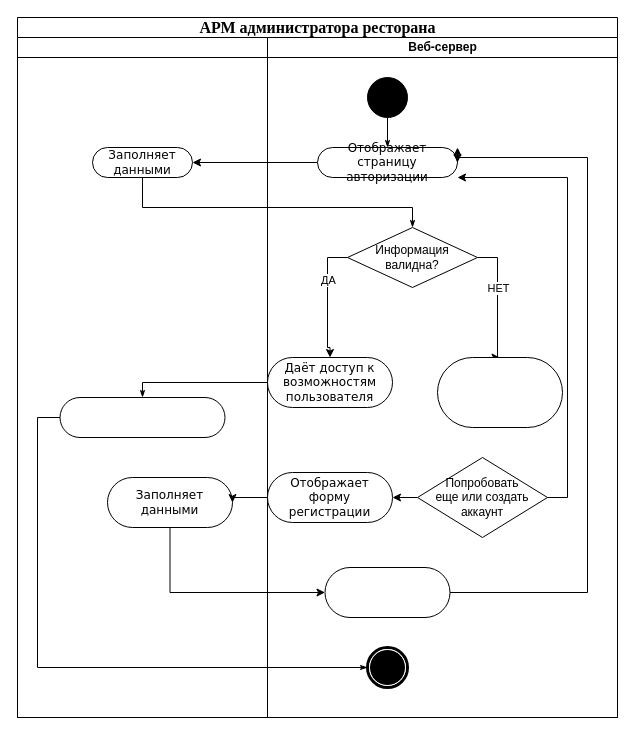
Some shapes in this 635 by 735 pixel diagram are drawn without their labels. The shapes that lost their labels are listed below. From the top down, each one's box as (x1, y1, x2, y2) in pixels, then its label:
(16, 36, 268, 718): Пользователь
(436, 356, 562, 428): Отображаеть сообщение о неправильном заполнении
(59, 396, 225, 438): Выполняет нужные действия на сервисе
(324, 566, 450, 618): Сохраняет в базу данных
